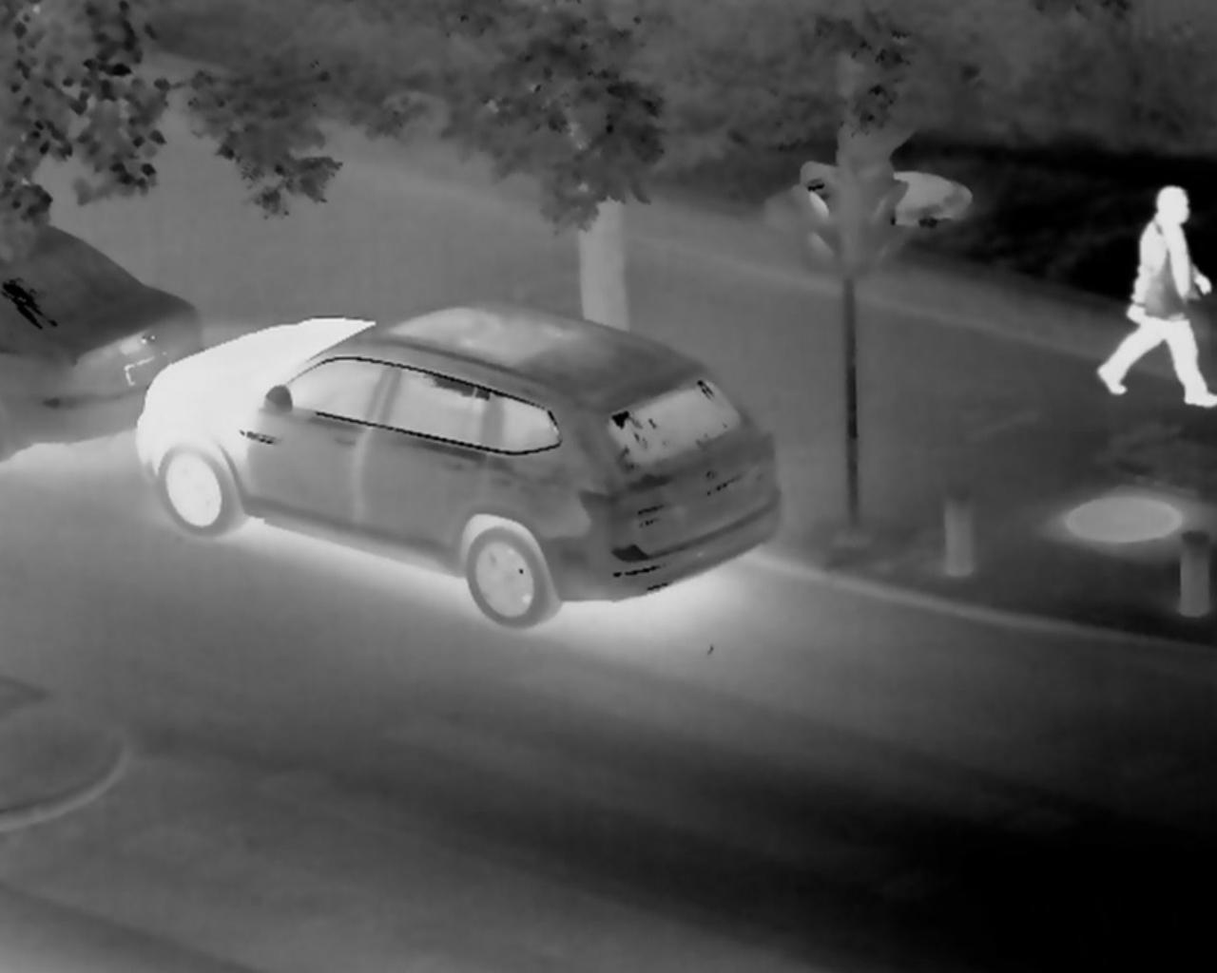person: (1107, 166, 1217, 409)
